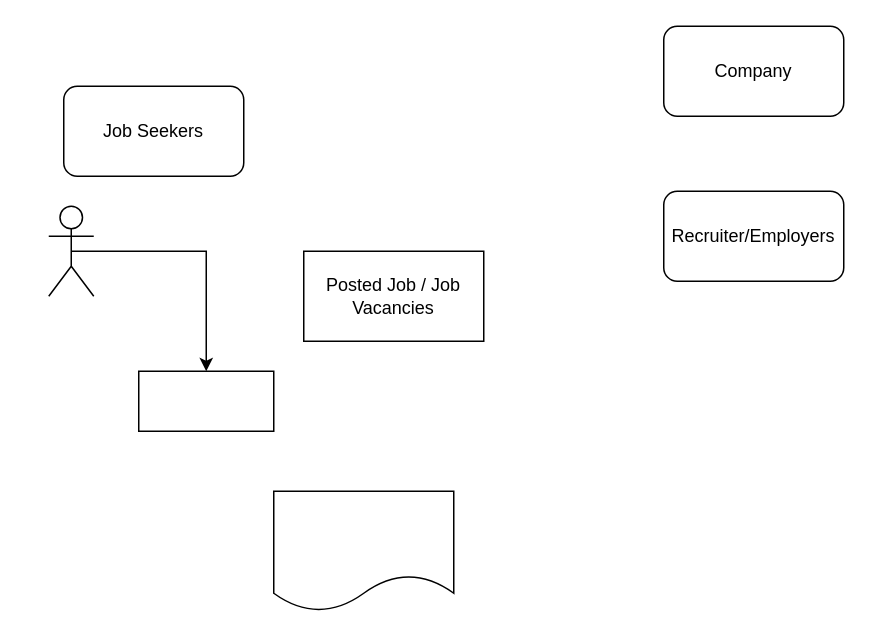
The diagram is 870 pixels wide and 638 high, and some of its shapes have lost their labels. The centre of each missing label's shape, as x and y in pixels:
Job Seeker: (x=70, y=250)
Posted Jobs/ Job Vacancies: (x=363, y=550)
